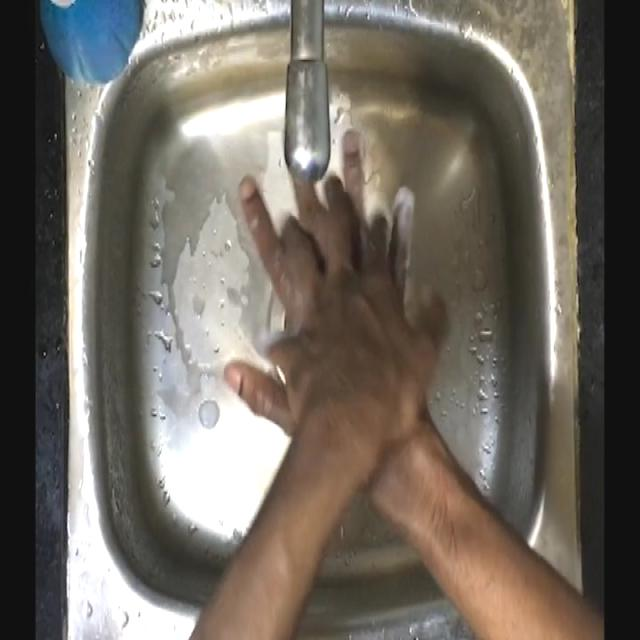step_2: (211, 123, 460, 432)
